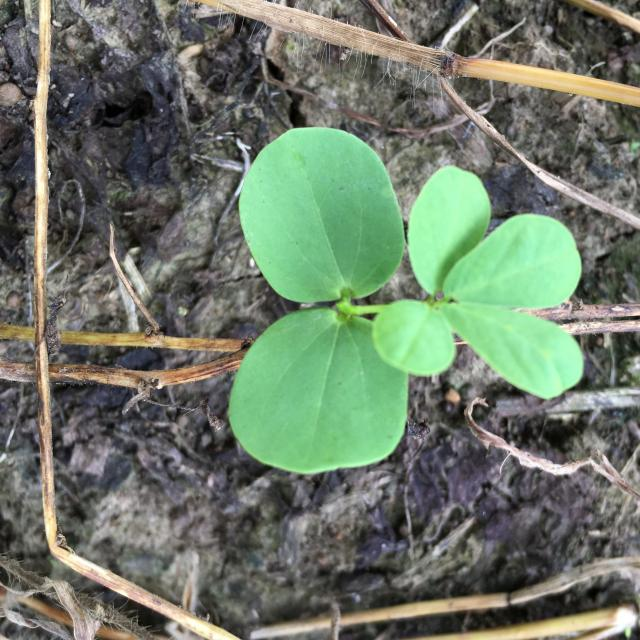Sicklepod: (228, 127, 584, 474)
